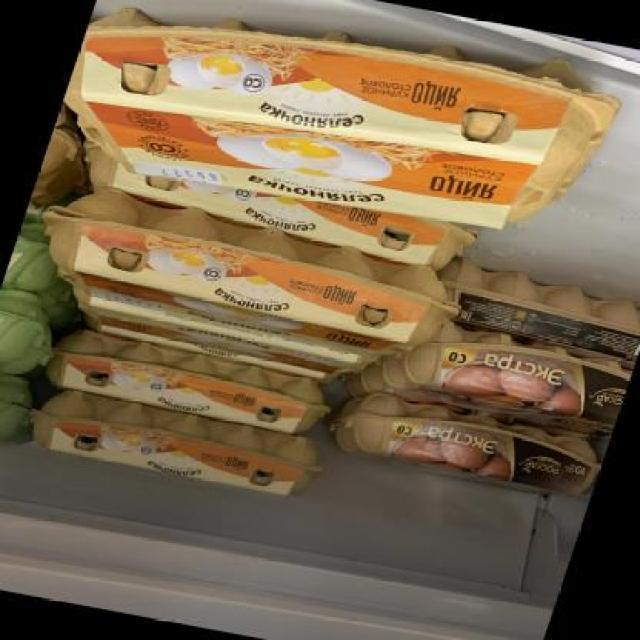Egg: (46, 0, 639, 255), (10, 185, 482, 370), (17, 385, 333, 504), (321, 388, 610, 506), (38, 326, 342, 438), (382, 316, 636, 436), (0, 289, 68, 383), (1, 221, 66, 296), (0, 371, 42, 452)
